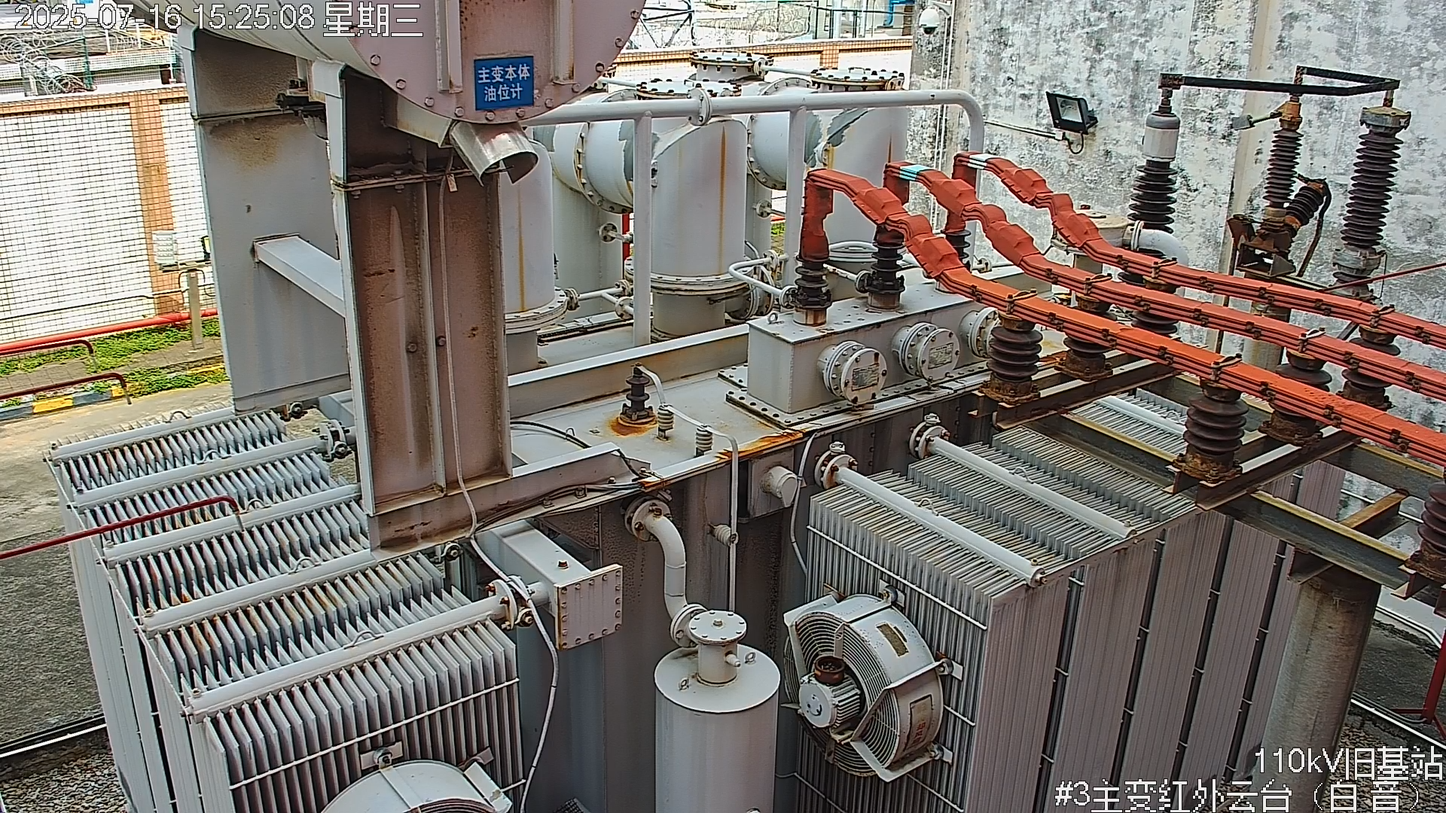MainTR: (41, 1, 1346, 813)
